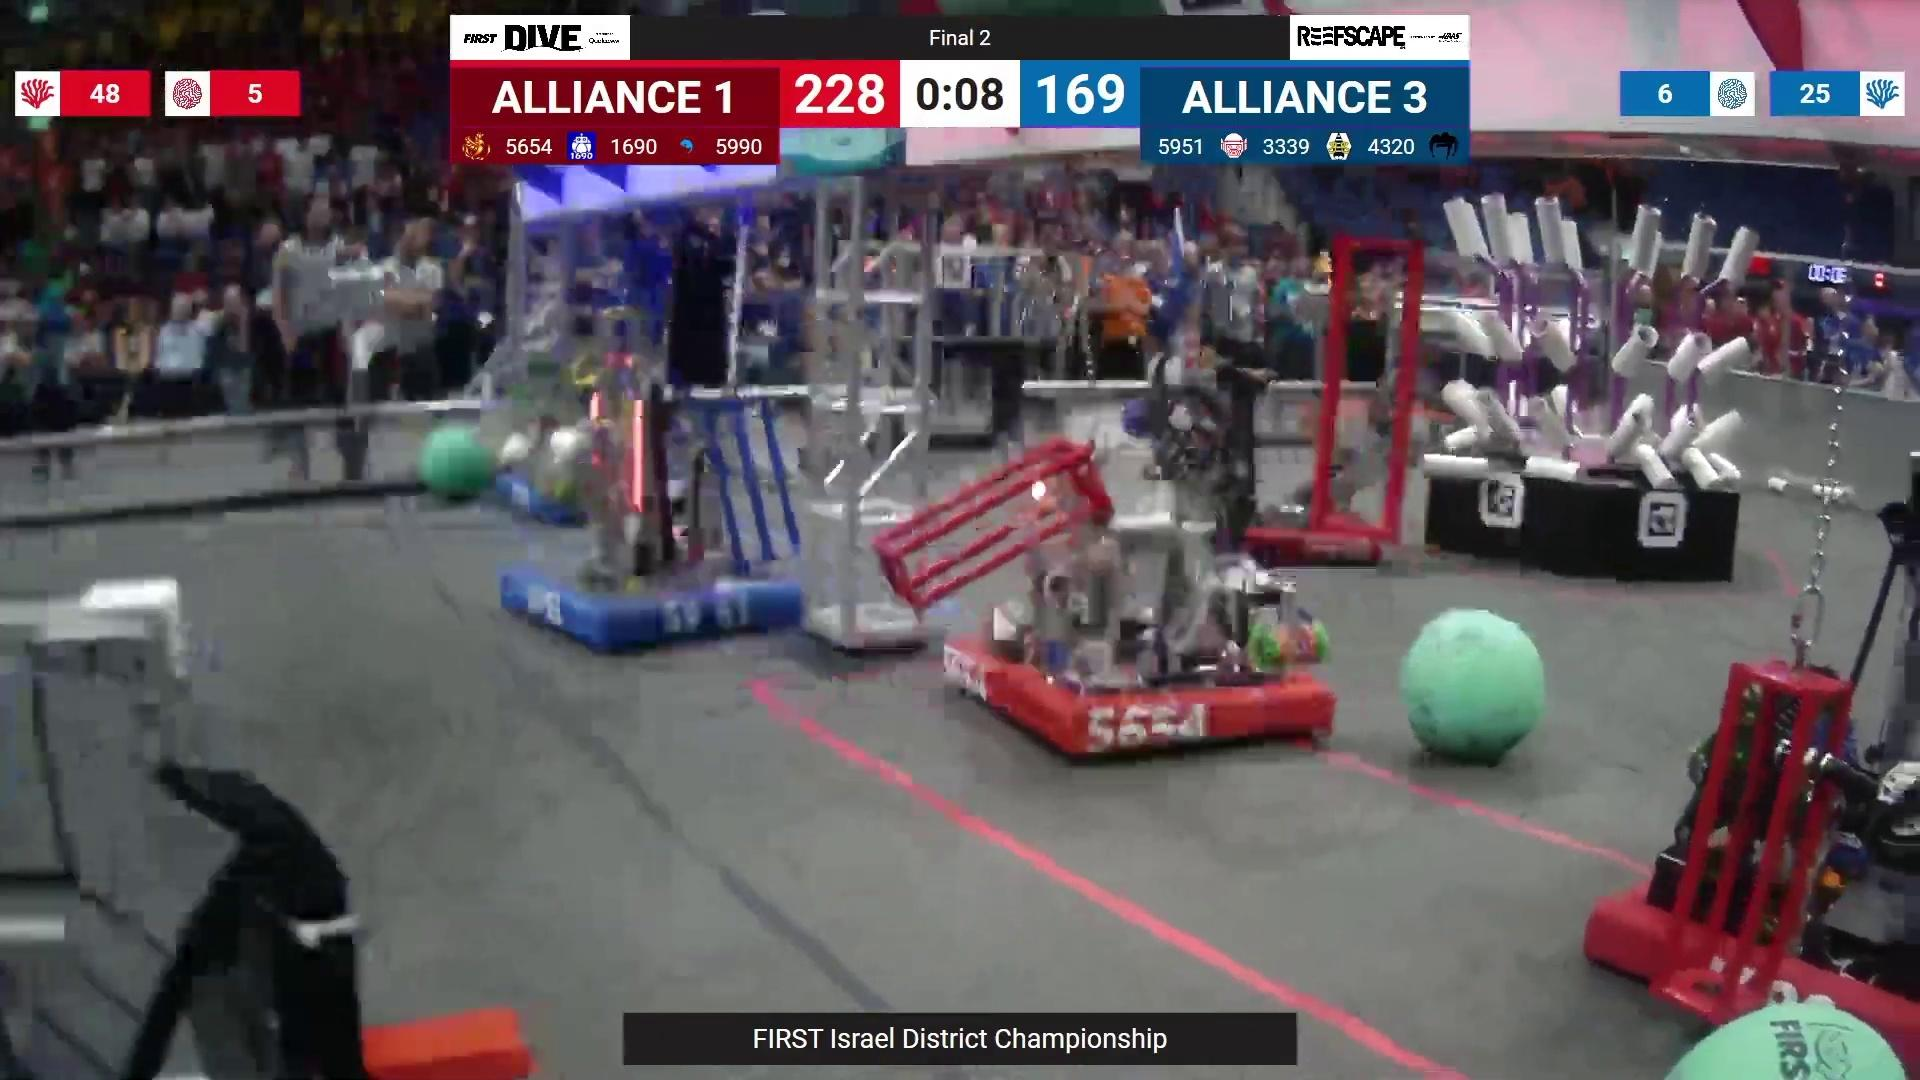robot: (0, 564, 533, 1080), (1580, 454, 1920, 1076), (942, 334, 1337, 767), (496, 356, 806, 659), (502, 345, 686, 526)
